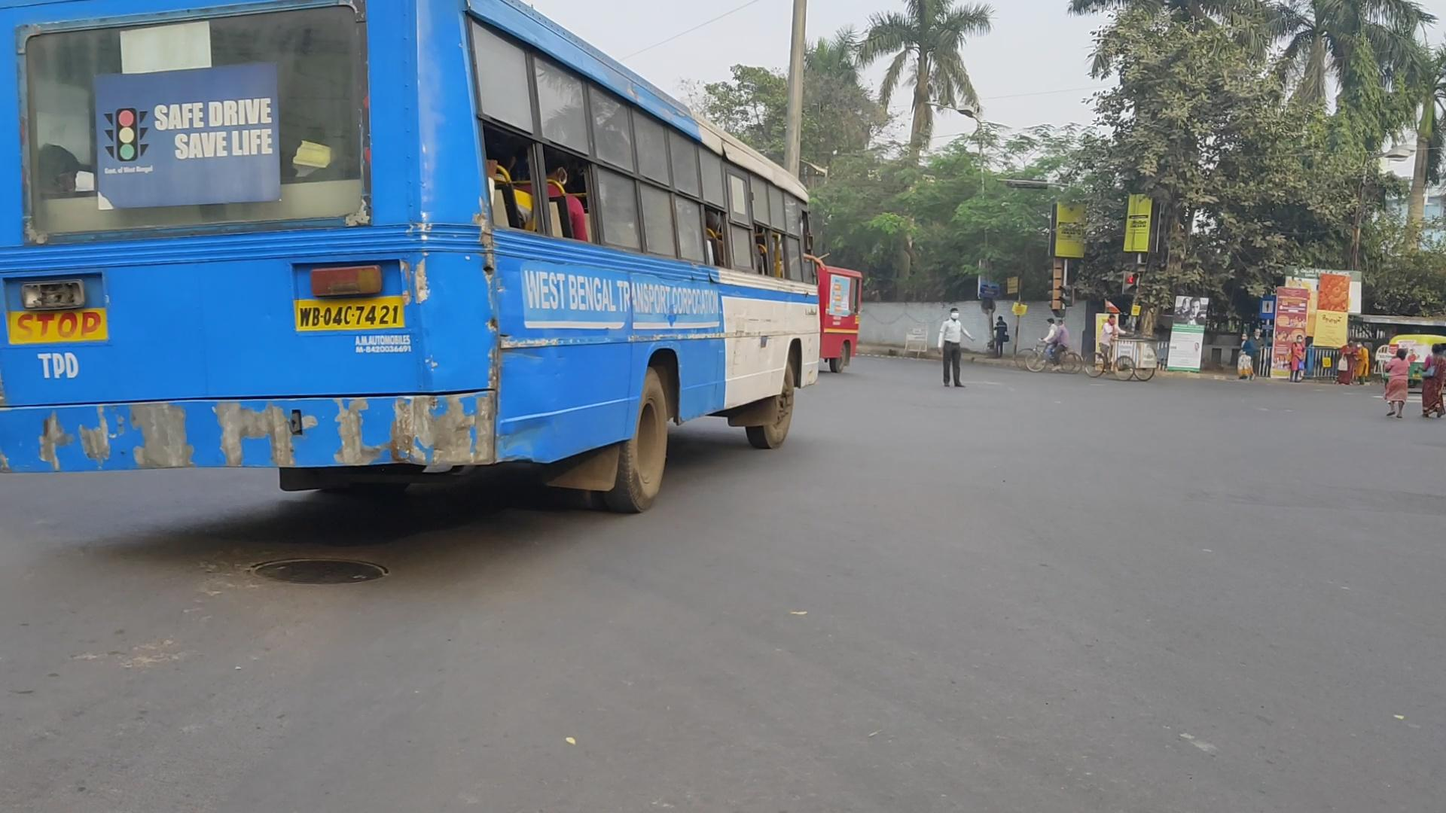Bus: (1, 2, 819, 514)
bike: (1014, 318, 1077, 373), (1026, 318, 1083, 376)
